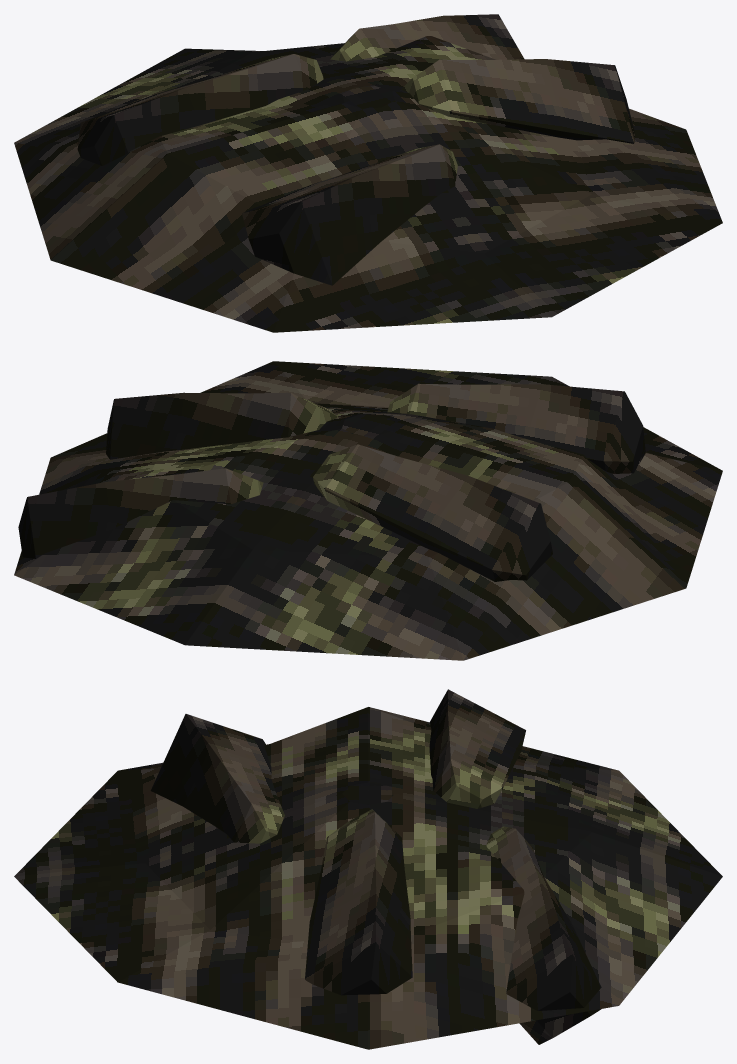
File: eggplant_barrel_fillter.glb
3 renders of one model, top to bottom at view 1: azimuth 30°, elevation 25°; view 2: azimuth 150°, elevation 25°; view 3: azimuth 270°, elevation 25°, orthographic. The views are drawn at different scales.
Visible parts, largest first — view 1: eggplant_barrel_fillter; view 2: eggplant_barrel_fillter; view 3: eggplant_barrel_fillter.
Boxes of the visible parts, bbox=[...] form: eggplant_barrel_fillter: bbox=[14, 14, 722, 332]; eggplant_barrel_fillter: bbox=[14, 361, 722, 660]; eggplant_barrel_fillter: bbox=[14, 689, 722, 1049].
Bounding box in the file's own units: 0.7858 × 0.2132 × 0.7858.
1 material, 1 textured.
